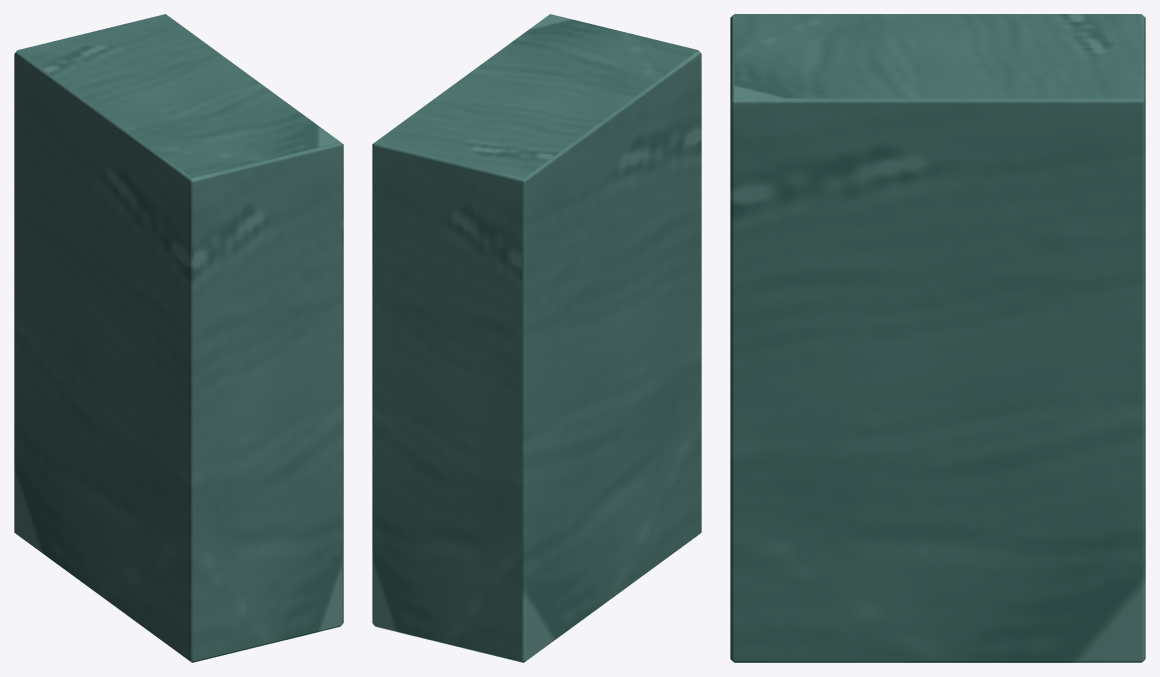
File: SM_AxisProbe.glb
3 views of the same model, side by side, from view 1: azimuth 30°, elevation 25°; view 2: azimuth 150°, elevation 25°; view 3: azimuth 270°, elevation 25° (orthographic). The views are drawn at different scales.
Parts seen in each view (by area): view 1: SM_AxisProbe; view 2: SM_AxisProbe; view 3: SM_AxisProbe.
Part boxes in pixels (bbox=[...]): SM_AxisProbe: bbox=[14, 14, 343, 662]; SM_AxisProbe: bbox=[372, 14, 701, 662]; SM_AxisProbe: bbox=[730, 14, 1145, 662].
Size of the model in its own units: 1 by 3 by 2.
Materials: 1 (1 with a texture image).
